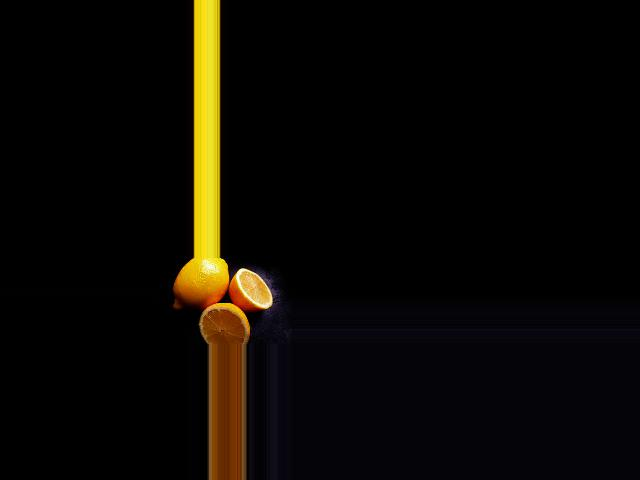lemon: (168, 259, 232, 309)
